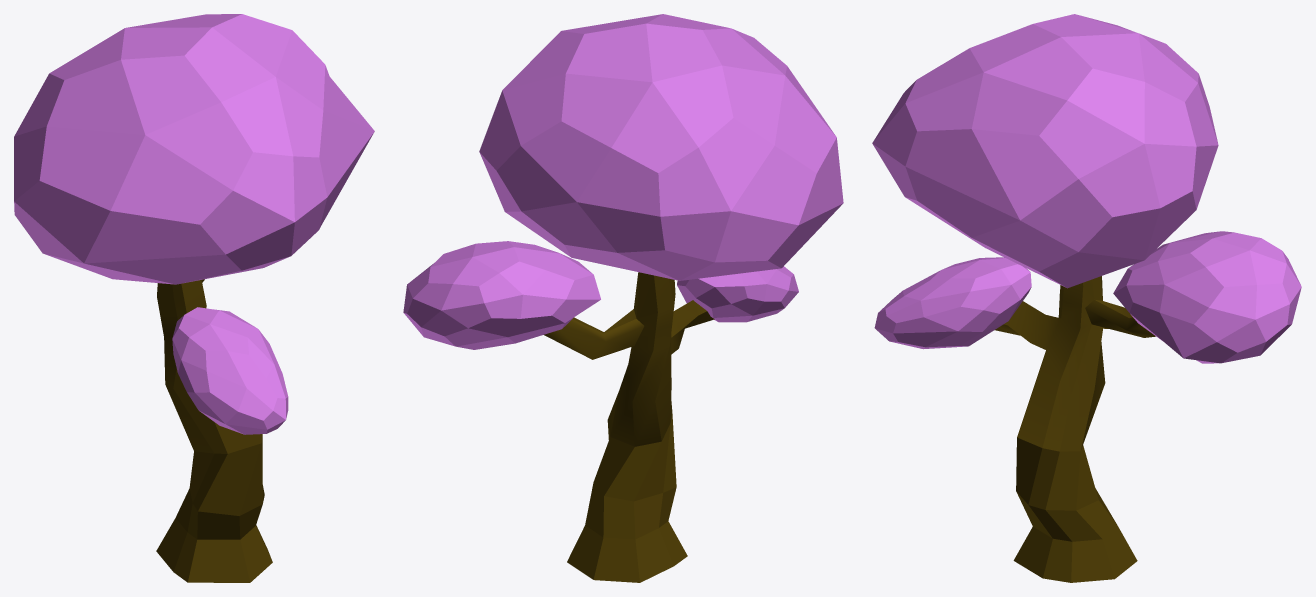
Rendered from CherryBlossomTree.fbx.
3 views of the same model, side by side, from view 1: azimuth 30°, elevation 25°; view 2: azimuth 150°, elevation 25°; view 3: azimuth 270°, elevation 25° (orthographic). The views are drawn at different scales.
Parts seen in each view (by area): view 1: pPlatonic12, pCube7, pPlatonic14; view 2: pPlatonic12, pCube7, pPlatonic13, pPlatonic14; view 3: pPlatonic12, pCube7, pPlatonic13, pPlatonic14.
Boxes of the visible parts, x1,y1,x2,y2 form: pPlatonic12: (14,14,374,284); pCube7: (156,279,272,582); pPlatonic14: (172,307,288,434); pPlatonic12: (479,14,843,280); pCube7: (544,272,714,582); pPlatonic13: (403,241,600,349); pPlatonic14: (677,266,798,322); pPlatonic12: (872,14,1218,288); pCube7: (994,276,1155,582); pPlatonic13: (1113,231,1301,363); pPlatonic14: (874,257,1031,349).
Bounding box in the file's own units: 3.43 × 5.48 × 4.13.
